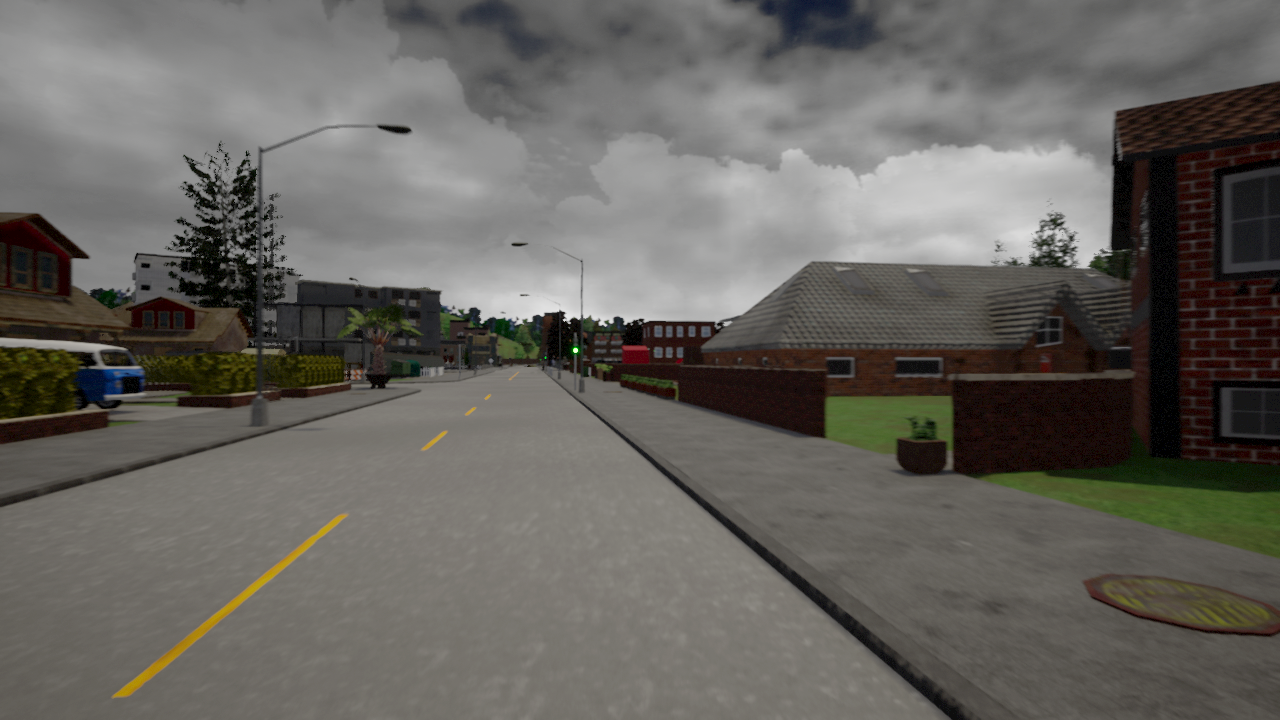green: (571, 336, 580, 355)
